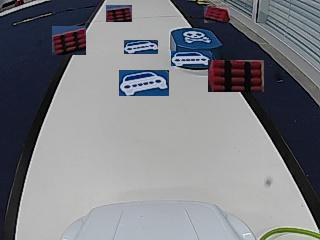danger: (183, 29, 210, 43)
